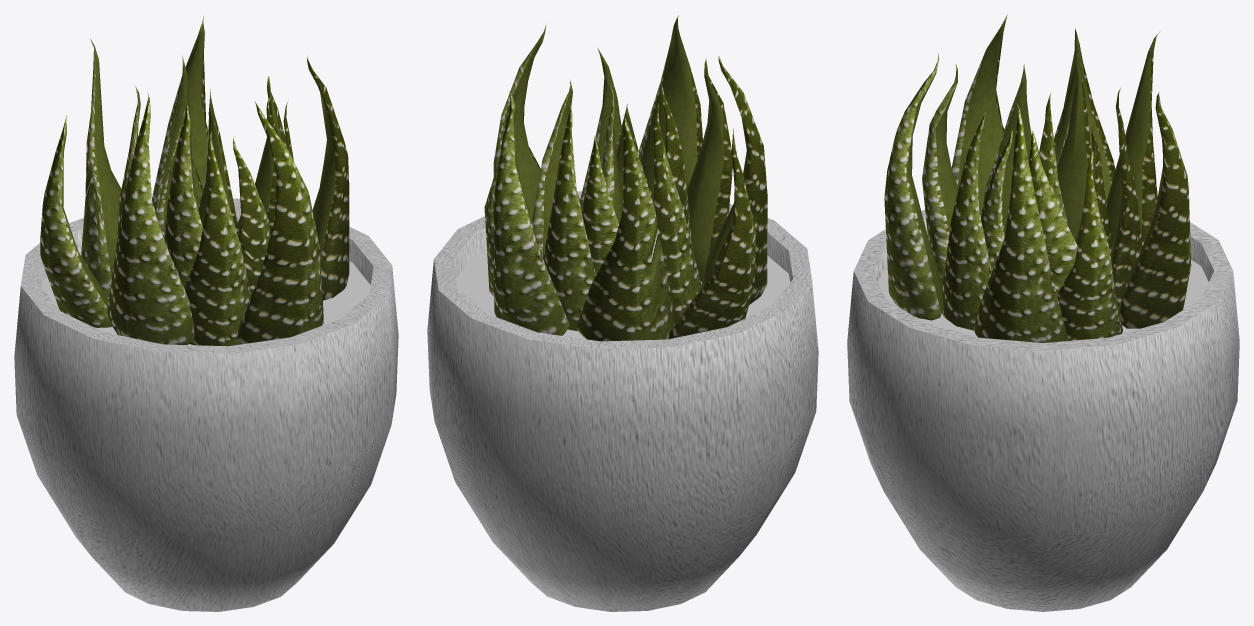
File: Plant2.fbx
3 views of the same model, side by side, from view 1: azimuth 30°, elevation 25°; view 2: azimuth 150°, elevation 25°; view 3: azimuth 270°, elevation 25° (orthographic).
Parts seen in each view (by area): view 1: Pot2, Plane.097, Plane.096, Plane.100, Plane.101, Plane.095, Plane.098, Plane.107, Plane.099, Plane.108, Plane.103, Plane.110 (+3 smaller); view 2: Pot2, Plane.098, Plane.099, Plane.101, Plane.103, Plane.100, Plane.096, Plane.102, Plane.097, Plane.095, Plane.109, Plane.106 (+5 smaller); view 3: Pot2, Plane.095, Plane.099, Plane.096, Plane.104, Plane.105, Plane.097, Plane.098, Plane.100, Plane.102, Plane.103, Plane.106 (+5 smaller).
Part boxes in pixels (<box>): Pot2: <box>14,198,398,611</box>; Plane.097: <box>107,93,194,344</box>; Plane.096: <box>236,101,323,344</box>; Plane.100: <box>185,131,251,346</box>; Plane.101: <box>40,115,112,327</box>; Plane.095: <box>307,56,349,300</box>; Plane.098: <box>81,38,121,297</box>; Plane.107: <box>164,101,202,289</box>; Plane.099: <box>152,16,237,222</box>; Plane.108: <box>233,136,270,295</box>; Plane.103: <box>153,55,202,216</box>; Plane.110: <box>198,89,238,236</box>; Pot2: <box>427,191,818,611</box>; Plane.098: <box>576,115,676,341</box>; Plane.099: <box>493,91,569,335</box>; Plane.101: <box>668,128,755,339</box>; Plane.103: <box>543,103,596,331</box>; Plane.100: <box>687,58,732,281</box>; Plane.096: <box>638,15,702,201</box>; Plane.102: <box>653,103,701,321</box>; Plane.097: <box>701,56,767,304</box>; Plane.095: <box>493,25,546,221</box>; Plane.109: <box>581,136,618,274</box>; Plane.106: <box>532,80,582,257</box>; Pot2: <box>847,210,1239,611</box>; Plane.095: <box>973,103,1068,342</box>; Plane.099: <box>1118,91,1191,328</box>; Plane.096: <box>884,53,943,320</box>; Plane.104: <box>1057,151,1122,340</box>; Plane.105: <box>942,112,992,330</box>; Plane.097: <box>951,14,1007,216</box>; Plane.098: <box>1106,31,1160,246</box>; Plane.100: <box>922,64,958,284</box>; Plane.102: <box>1057,58,1091,241</box>; Plane.103: <box>1111,87,1142,306</box>; Plane.106: <box>1028,129,1077,293</box>.
Size of the model in its own units: 66.2 by 96.77 by 66.2.
